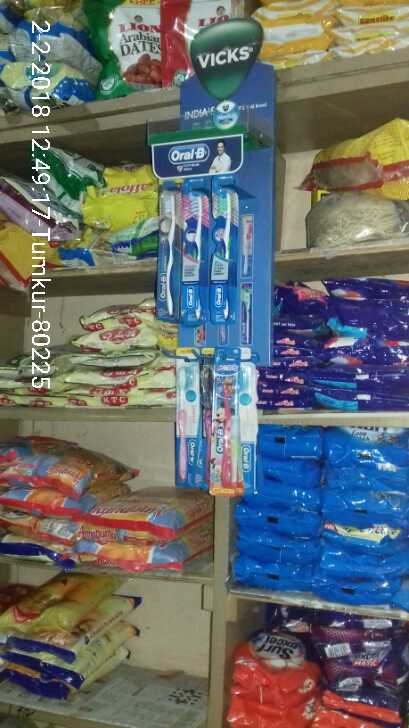oralb: (201, 354, 254, 491), (206, 182, 243, 315), (172, 356, 206, 483), (174, 184, 200, 311), (155, 192, 179, 308)
